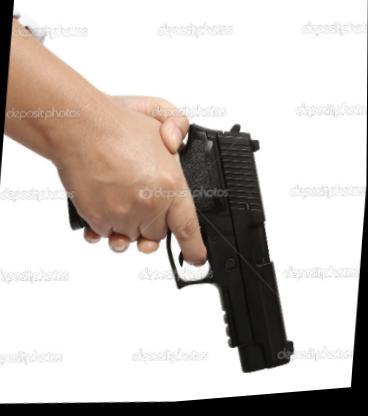pistol: (24, 103, 320, 404)
